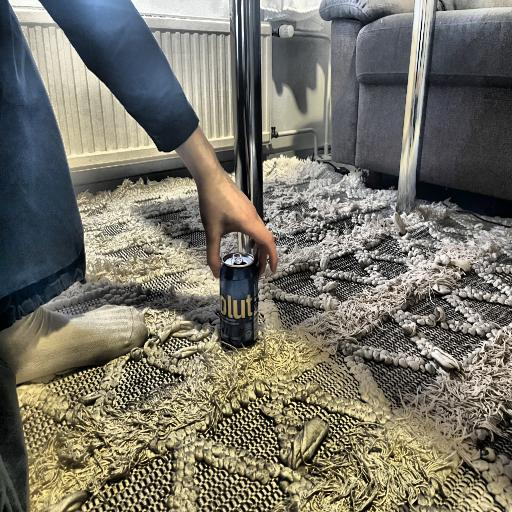koti: (217, 248, 261, 352)
